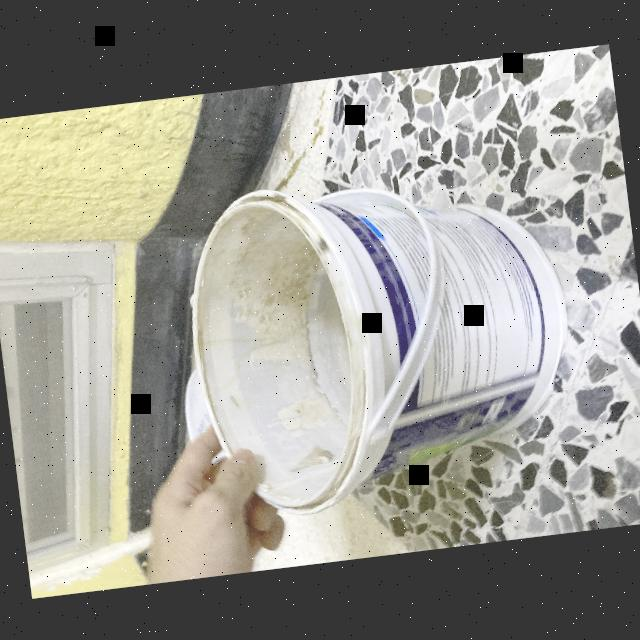paint_bucket: (170, 154, 586, 522)
